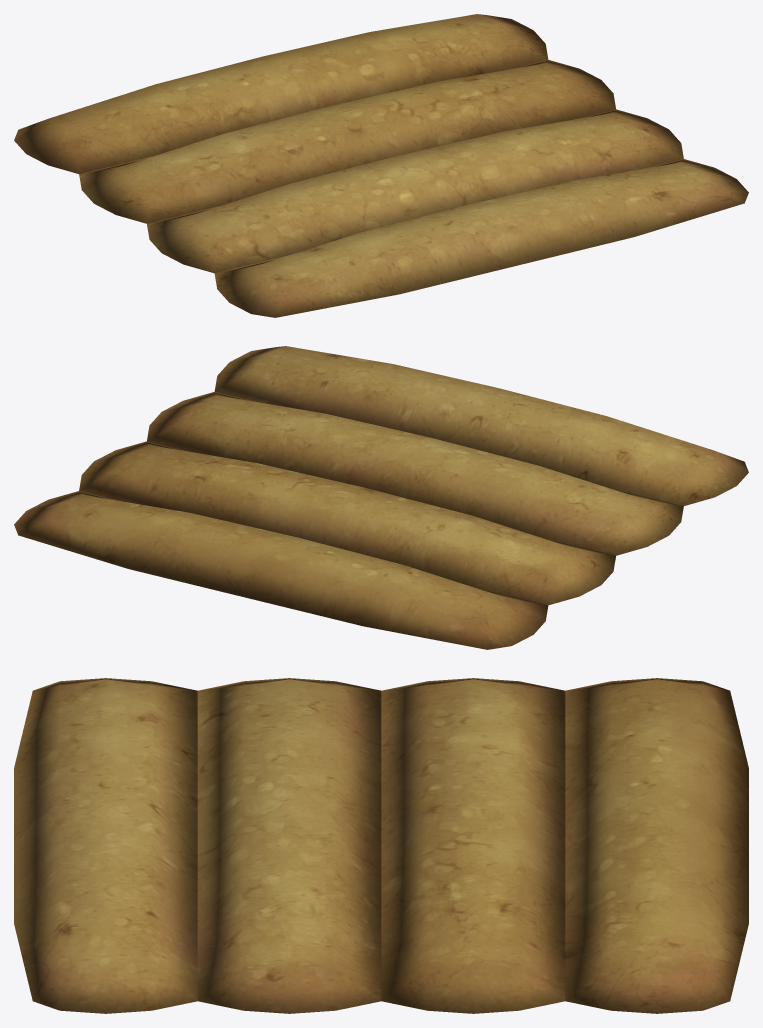
The model's file is field.FBX.
The picture shows the model from 3 angles, top to bottom: view 1: azimuth 30°, elevation 25°; view 2: azimuth 150°, elevation 25°; view 3: azimuth 270°, elevation 25°; orthographic projection. The views are drawn at different scales.
Visible parts, largest first — view 1: Box001; view 2: Box001; view 3: Box001.
Boxes of the visible parts, bbox=[...] form: Box001: bbox=[14, 14, 748, 317]; Box001: bbox=[14, 346, 748, 649]; Box001: bbox=[14, 678, 748, 1013].
Bounding box in the file's own units: 78.96 × 4.24 × 73.03.
